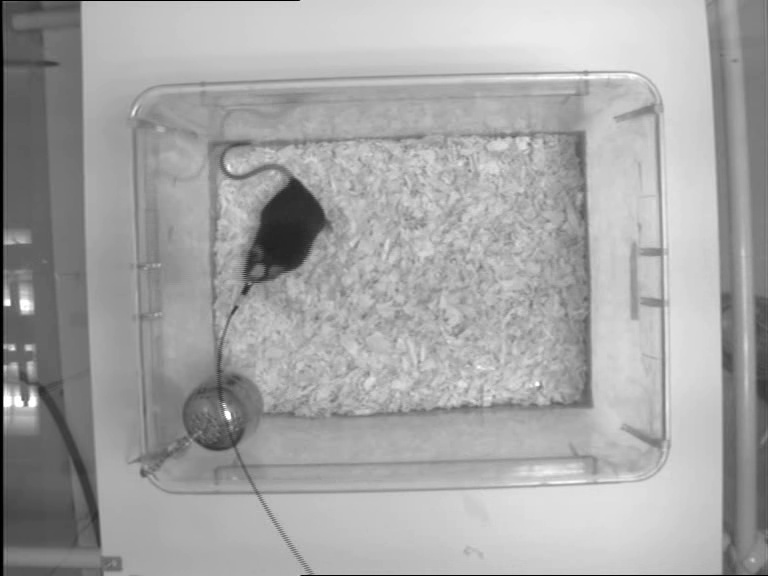mice: (217, 138, 333, 284)
